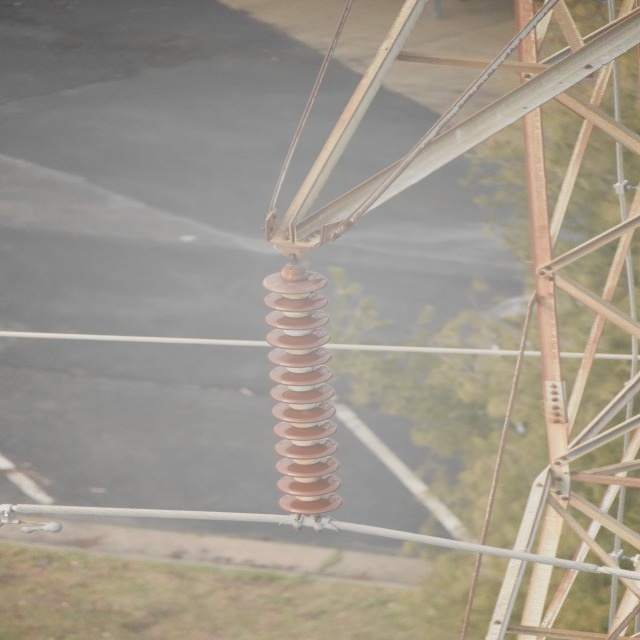insulator: (262, 267, 341, 513)
